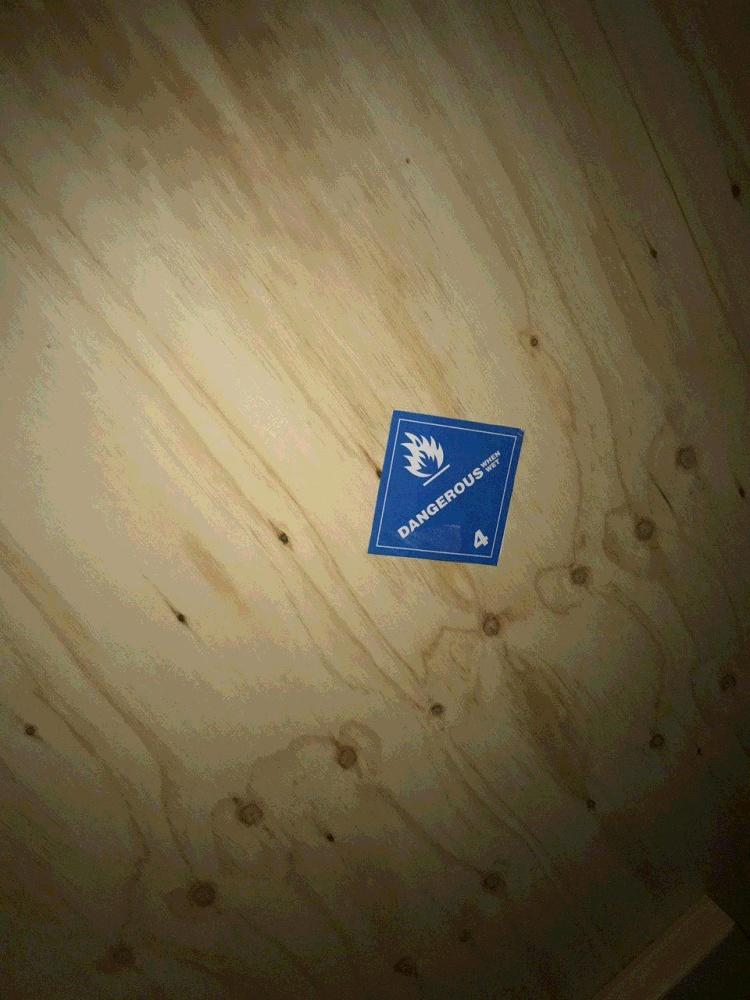dangerous-when-wet: (366, 409, 527, 573)
